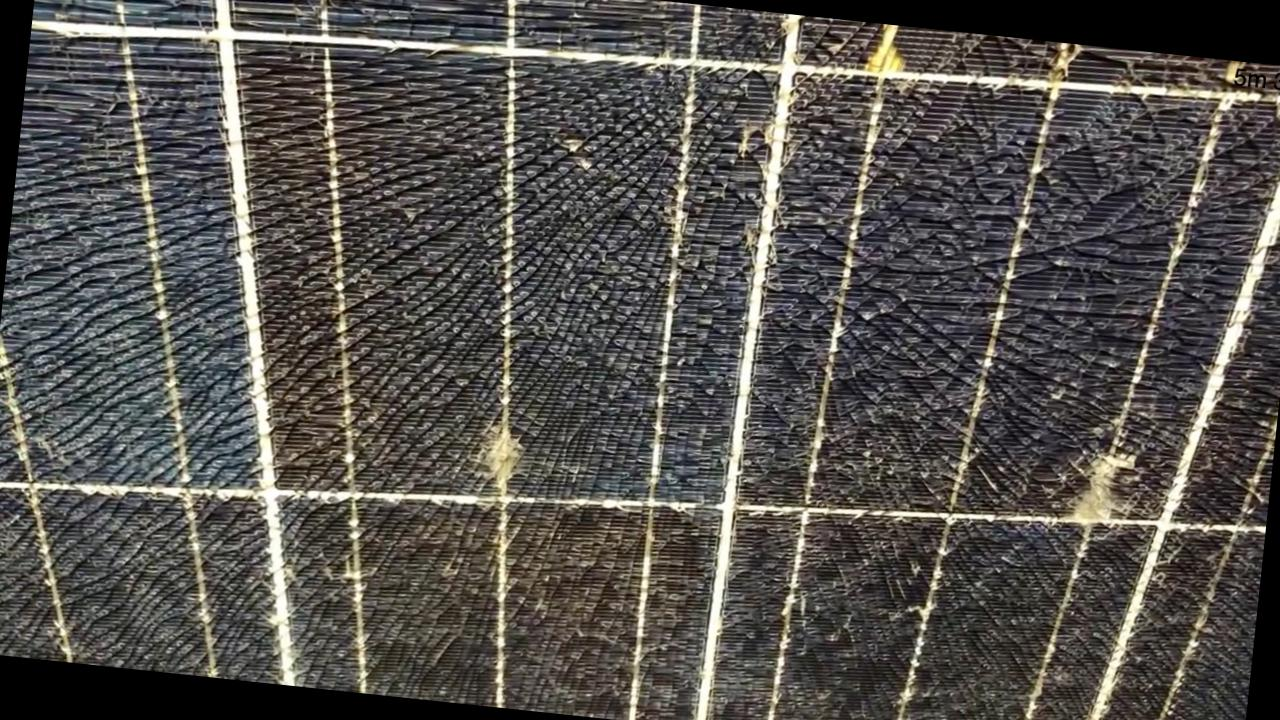Crack: (1058, 430, 1152, 548), (459, 412, 540, 502)
